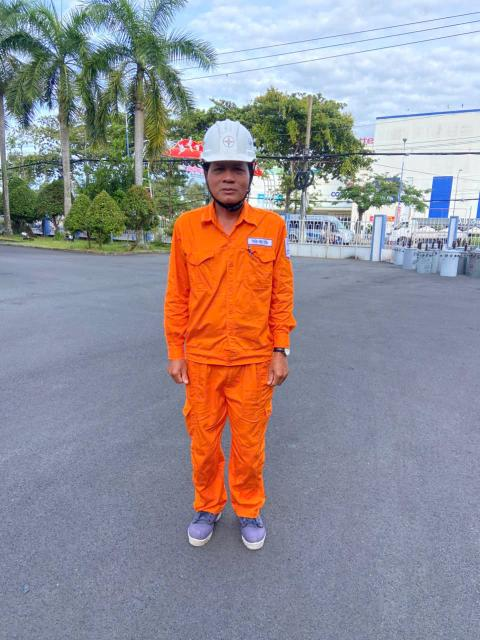helmet: (183, 111, 278, 181)
shoes: (183, 495, 219, 552), (232, 506, 276, 552)
